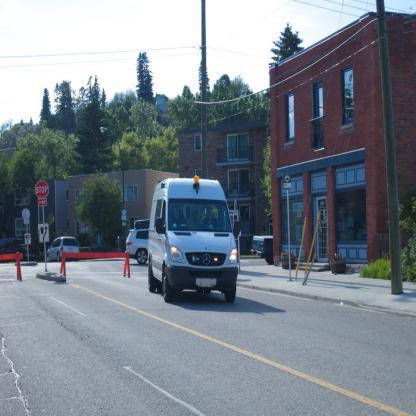Ambulance - v1 Ambulance last generate: (148, 174, 240, 303)
